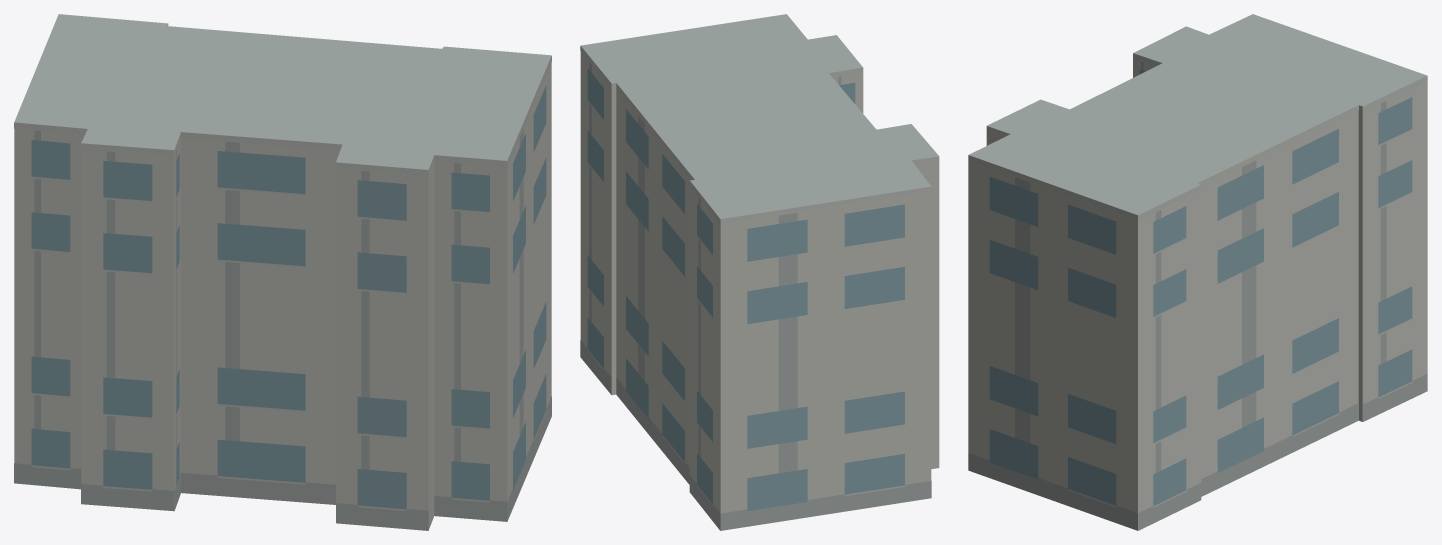
The model's file is survey-upis-32704694.glb.
3 views of the same model, side by side, from view 1: azimuth 30°, elevation 25°; view 2: azimuth 150°, elevation 25°; view 3: azimuth 270°, elevation 25° (orthographic). The views are drawn at different scales.
Parts seen in each view (by area): view 1: survey-upis-32704694.tmp; view 2: survey-upis-32704694.tmp; view 3: survey-upis-32704694.tmp.
Boxes of the visible parts, x1,y1,x2,y2 form: survey-upis-32704694.tmp: [14, 14, 551, 530]; survey-upis-32704694.tmp: [580, 14, 939, 530]; survey-upis-32704694.tmp: [968, 14, 1427, 530].
Bounding box in the file's own units: 19.03 × 13.9 × 18.34.
